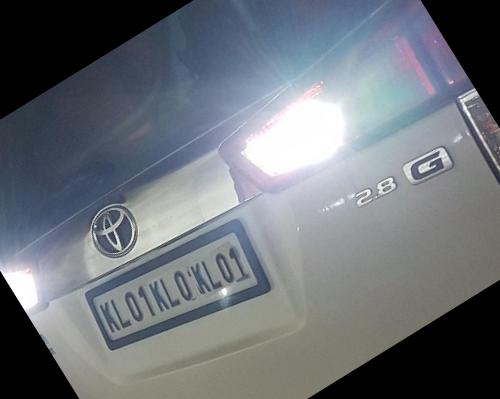plate: (71, 188, 297, 385)
